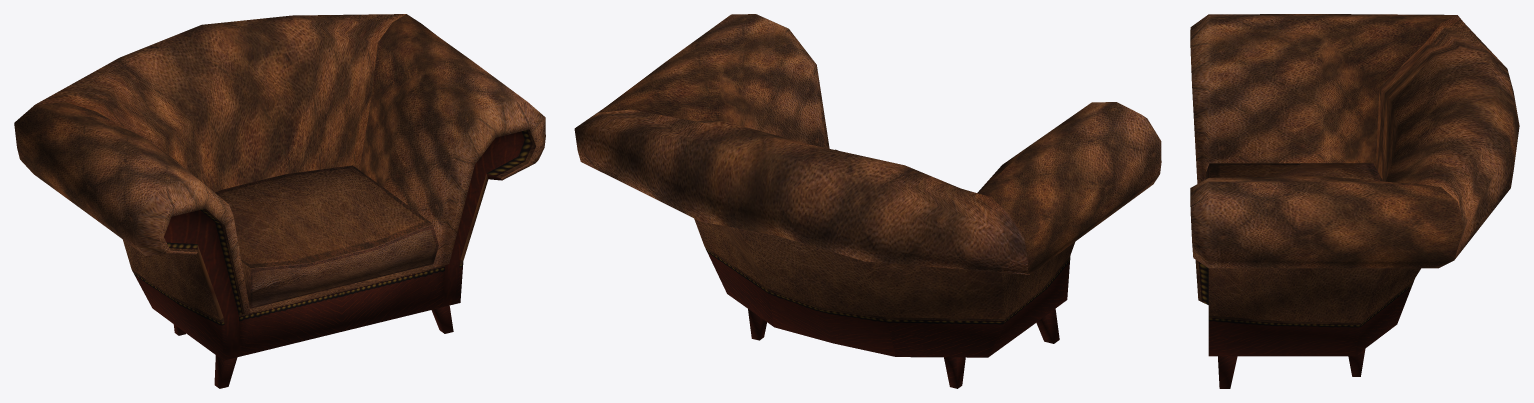
File: LeatherChamberlain2.fbx
The picture shows the model from 3 angles, left to right: view 1: azimuth 30°, elevation 25°; view 2: azimuth 150°, elevation 25°; view 3: azimuth 270°, elevation 25°; orthographic projection. The views are drawn at different scales.
Parts seen in each view (by area): view 1: ChamberChair_LOD0; view 2: ChamberChair_LOD0; view 3: ChamberChair_LOD0.
Part boxes in pixels (x1,y1,x2,y2): ChamberChair_LOD0: (14, 14, 545, 388); ChamberChair_LOD0: (574, 14, 1161, 388); ChamberChair_LOD0: (1190, 14, 1519, 388).
Size of what is drawn, in the model's own units: 210 by 118 by 143.
